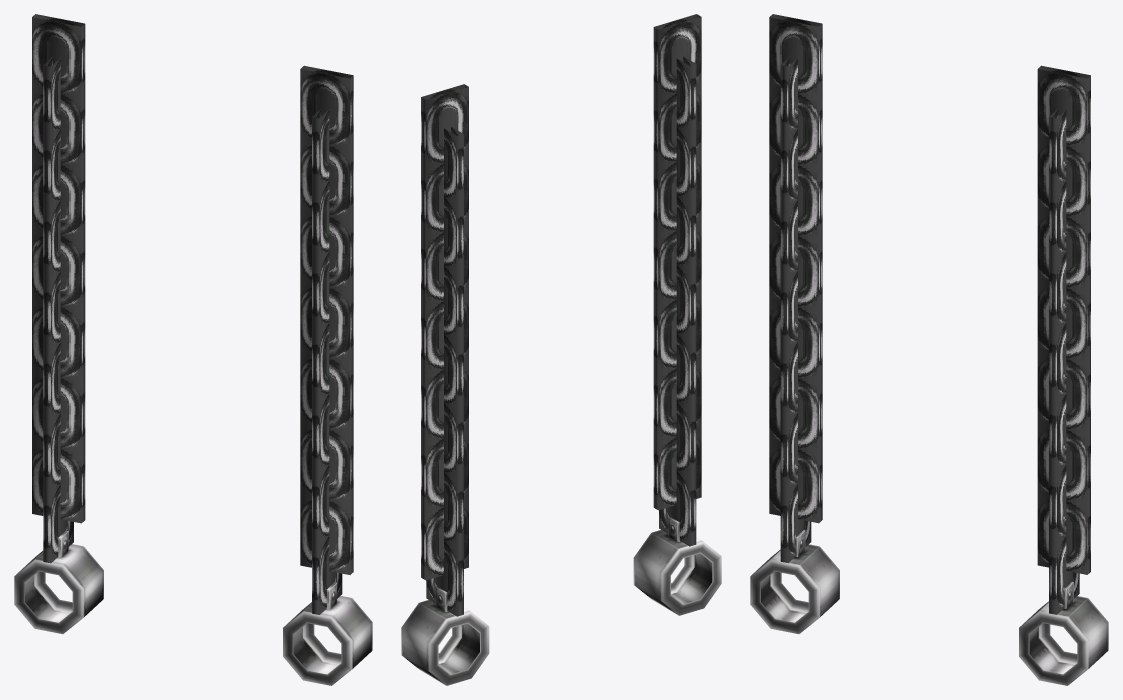
The model's file is SWORDLIGHT20_INST_CHAINCUFFS_LOD1_05.fbx.
3 renders of one model, left to right at view 1: azimuth 90°, elevation 25°; view 2: azimuth 150°, elevation 25°; view 3: azimuth 270°, elevation 25°, orthographic. The views are drawn at different scales.
Visible parts, largest first — view 1: SWORDLIGHT20_INST_CHAINCUFFS_LOD1_05; view 2: SWORDLIGHT20_INST_CHAINCUFFS_LOD1_05; view 3: SWORDLIGHT20_INST_CHAINCUFFS_LOD1_05.
Boxes of the visible parts, x1,y1,x2,y2 form: SWORDLIGHT20_INST_CHAINCUFFS_LOD1_05: (14,14,372,685); SWORDLIGHT20_INST_CHAINCUFFS_LOD1_05: (401,14,721,685); SWORDLIGHT20_INST_CHAINCUFFS_LOD1_05: (750,14,1108,685).
Size of the model in its own units: 3637 by 12114 by 6539.
2 materials, 2 textured.
